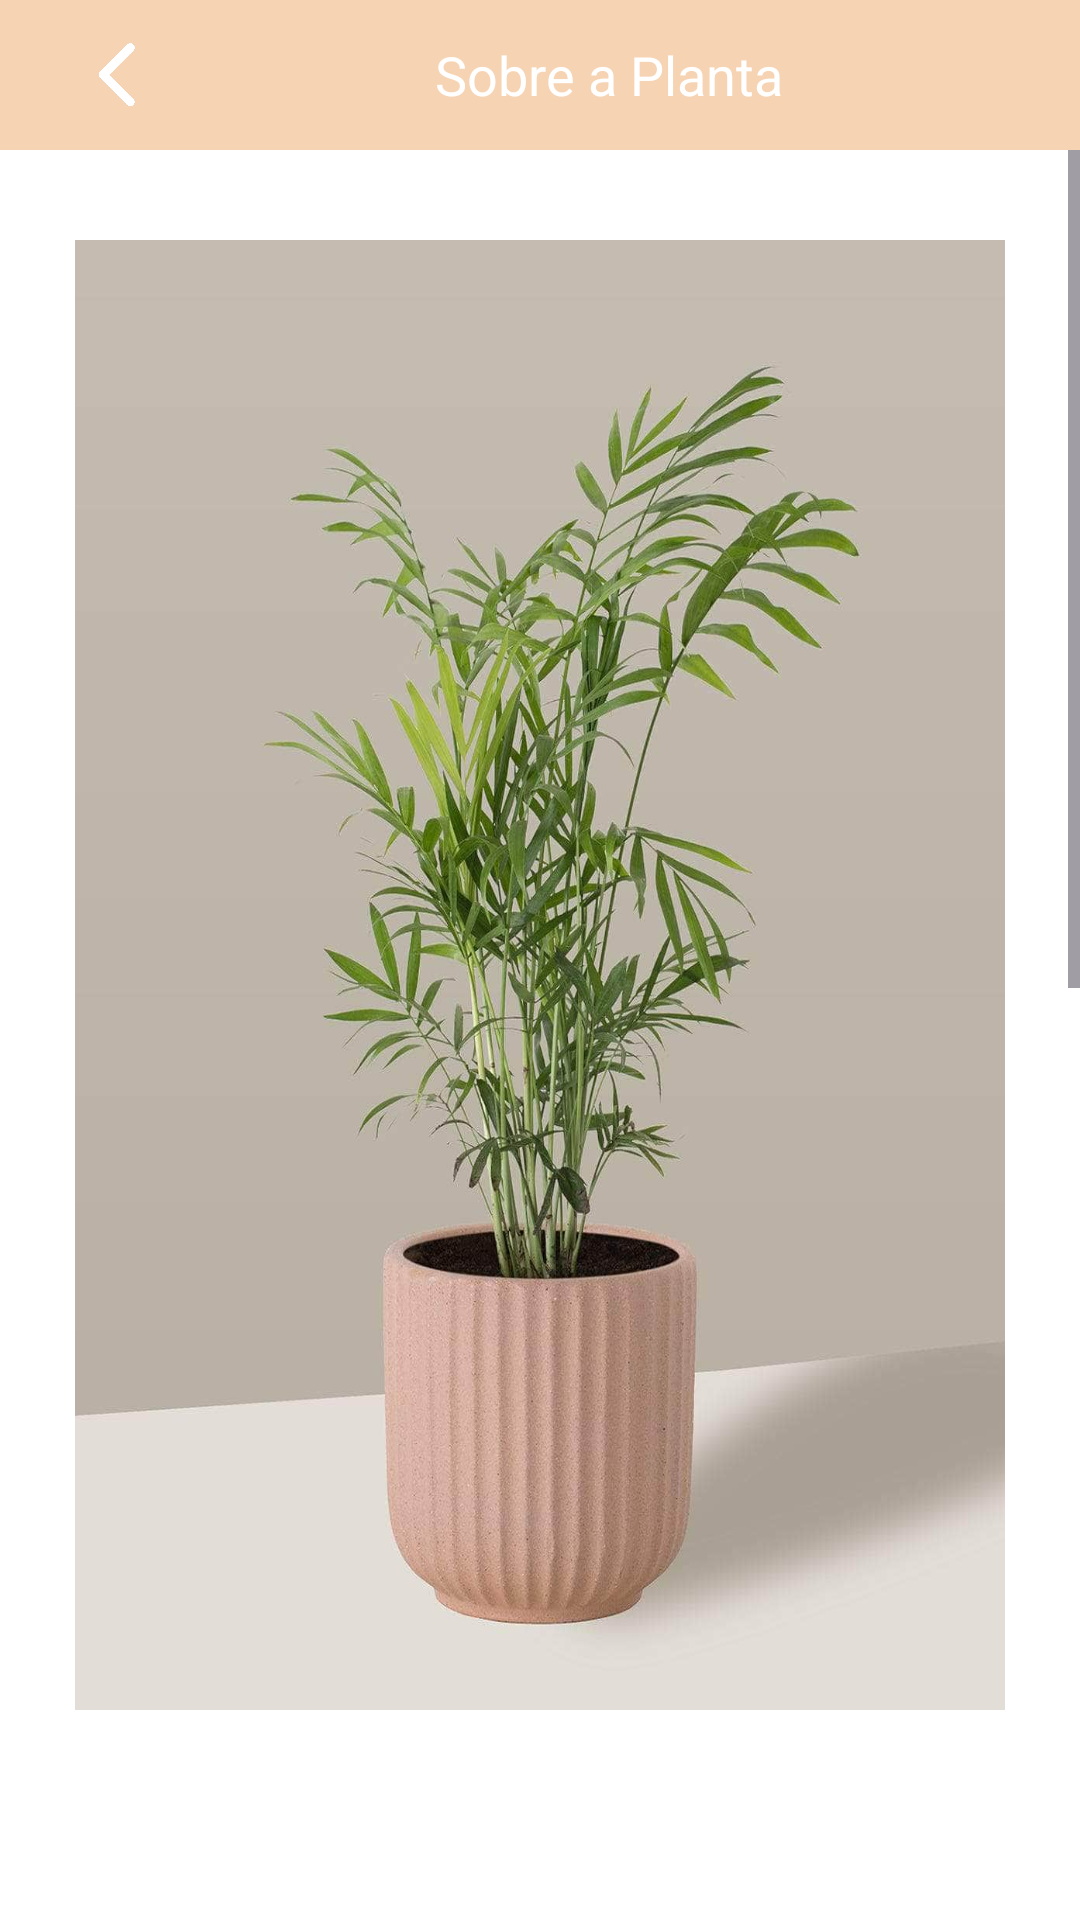

Icon bounding boxes for this 1080×1920 phone screenshot, format (x1, y1, x2, y2):
seta voltar: (99, 43, 135, 106)
